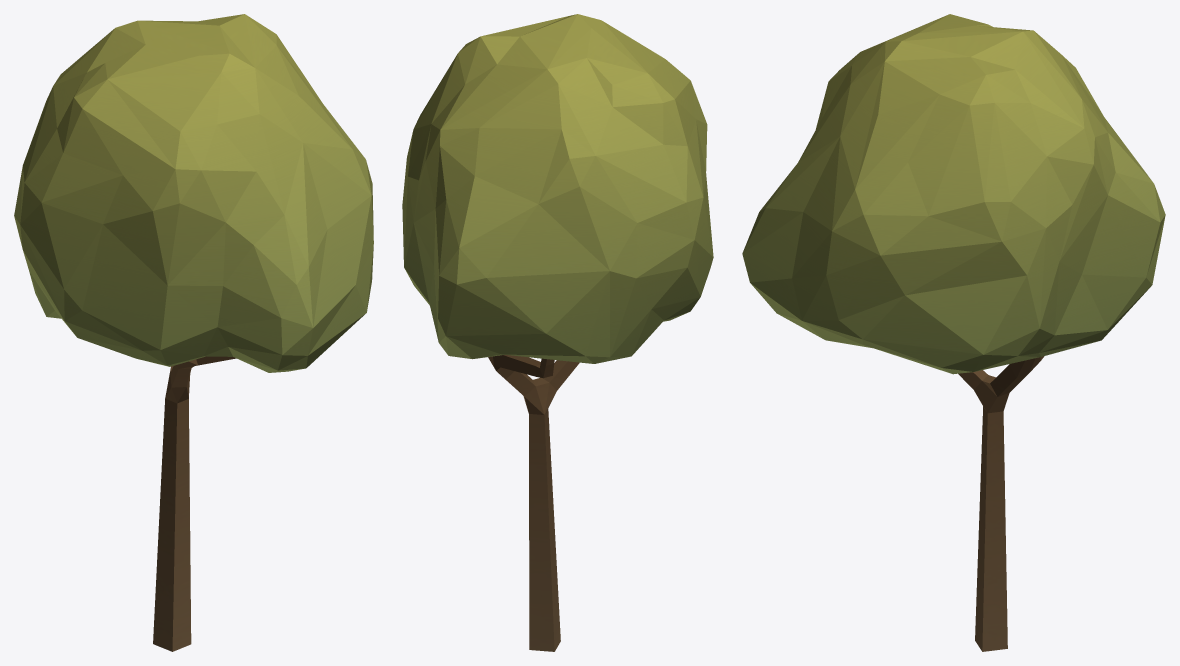
Rendered from large-tree-3.glb.
The picture shows the model from 3 angles, left to right: view 1: azimuth 30°, elevation 25°; view 2: azimuth 150°, elevation 25°; view 3: azimuth 270°, elevation 25°; orthographic projection. The views are drawn at different scales.
Parts seen in each view (by area): view 1: large-tree-3; view 2: large-tree-3; view 3: large-tree-3.
Boxes of the visible parts, x1,y1,x2,y2 form: large-tree-3: (14, 14, 373, 651); large-tree-3: (402, 14, 713, 651); large-tree-3: (742, 14, 1165, 651).
Bounding box in the file's own units: 0.1788 × 0.3568 × 0.2246.
Materials: 1 (1 with a texture image).
